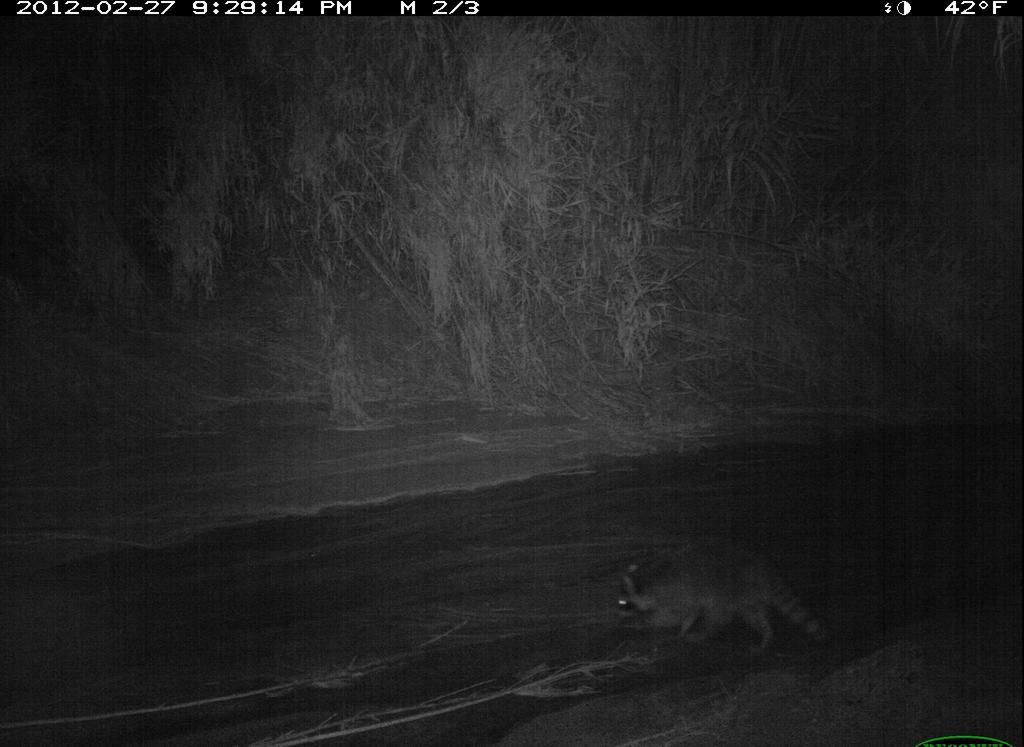raccoon: (607, 529, 839, 661)
